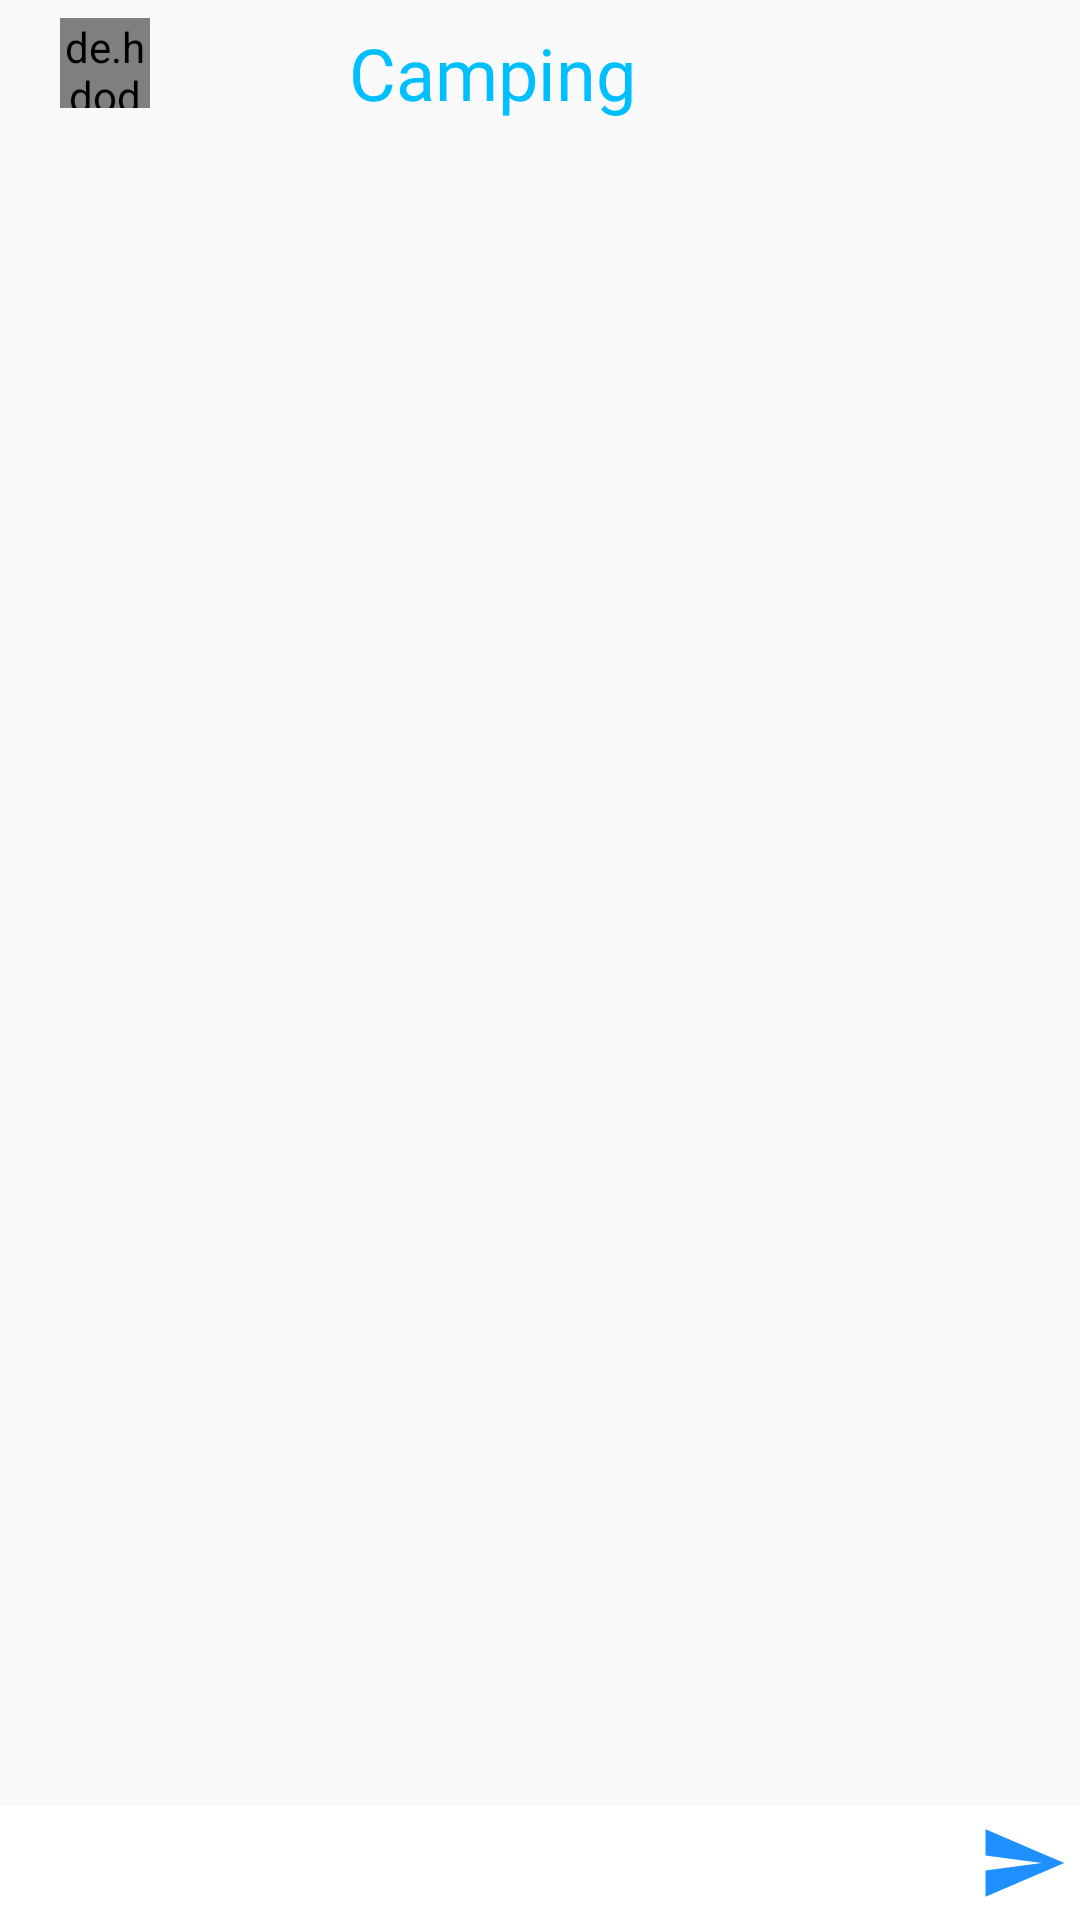

Screen size 1080 x 1920. Icon name, then its center in pixels as (x=x, y=y):
send navy: (x=1024, y=1863)
